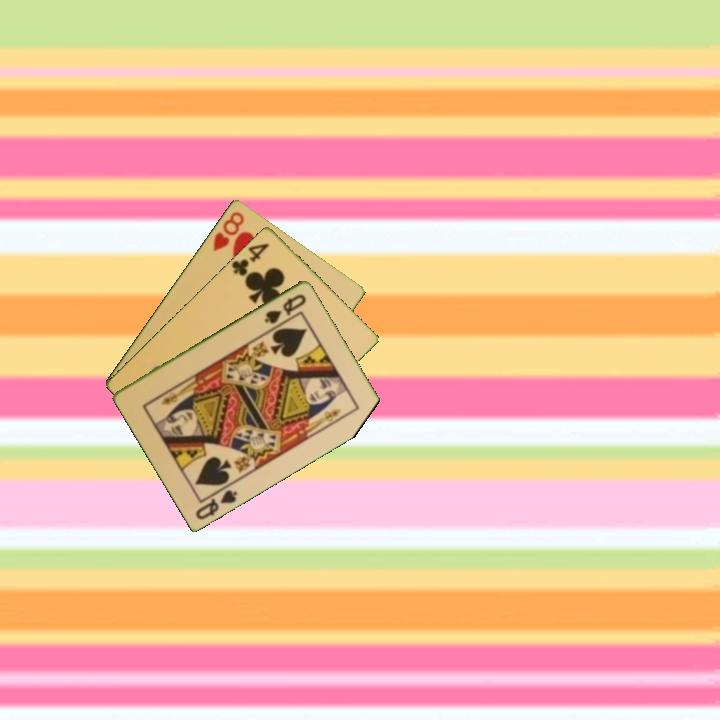4c: (228, 239, 272, 279)
8h: (209, 207, 247, 254)
Qs: (192, 480, 240, 522), (261, 290, 309, 327)
